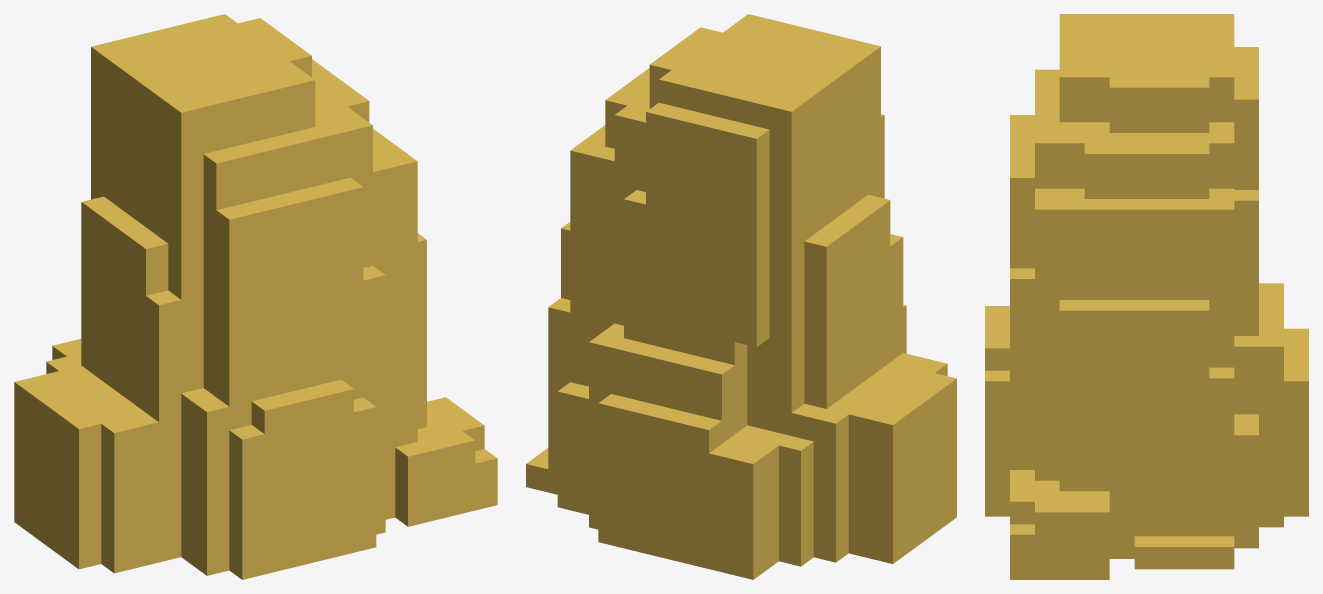
File: RockTall_mesh.fbx
3 views of the same model, side by side, from view 1: azimuth 30°, elevation 25°; view 2: azimuth 150°, elevation 25°; view 3: azimuth 270°, elevation 25° (orthographic). The views are drawn at different scales.
Parts seen in each view (by area): view 1: RockTall; view 2: RockTall; view 3: RockTall.
Boxes of the visible parts, x1,y1,x2,y2 form: RockTall: (14,14,497,579); RockTall: (526,14,956,579); RockTall: (985,14,1308,579).
Size of what is drawn, in the model's own units: 170 by 190 by 130.
